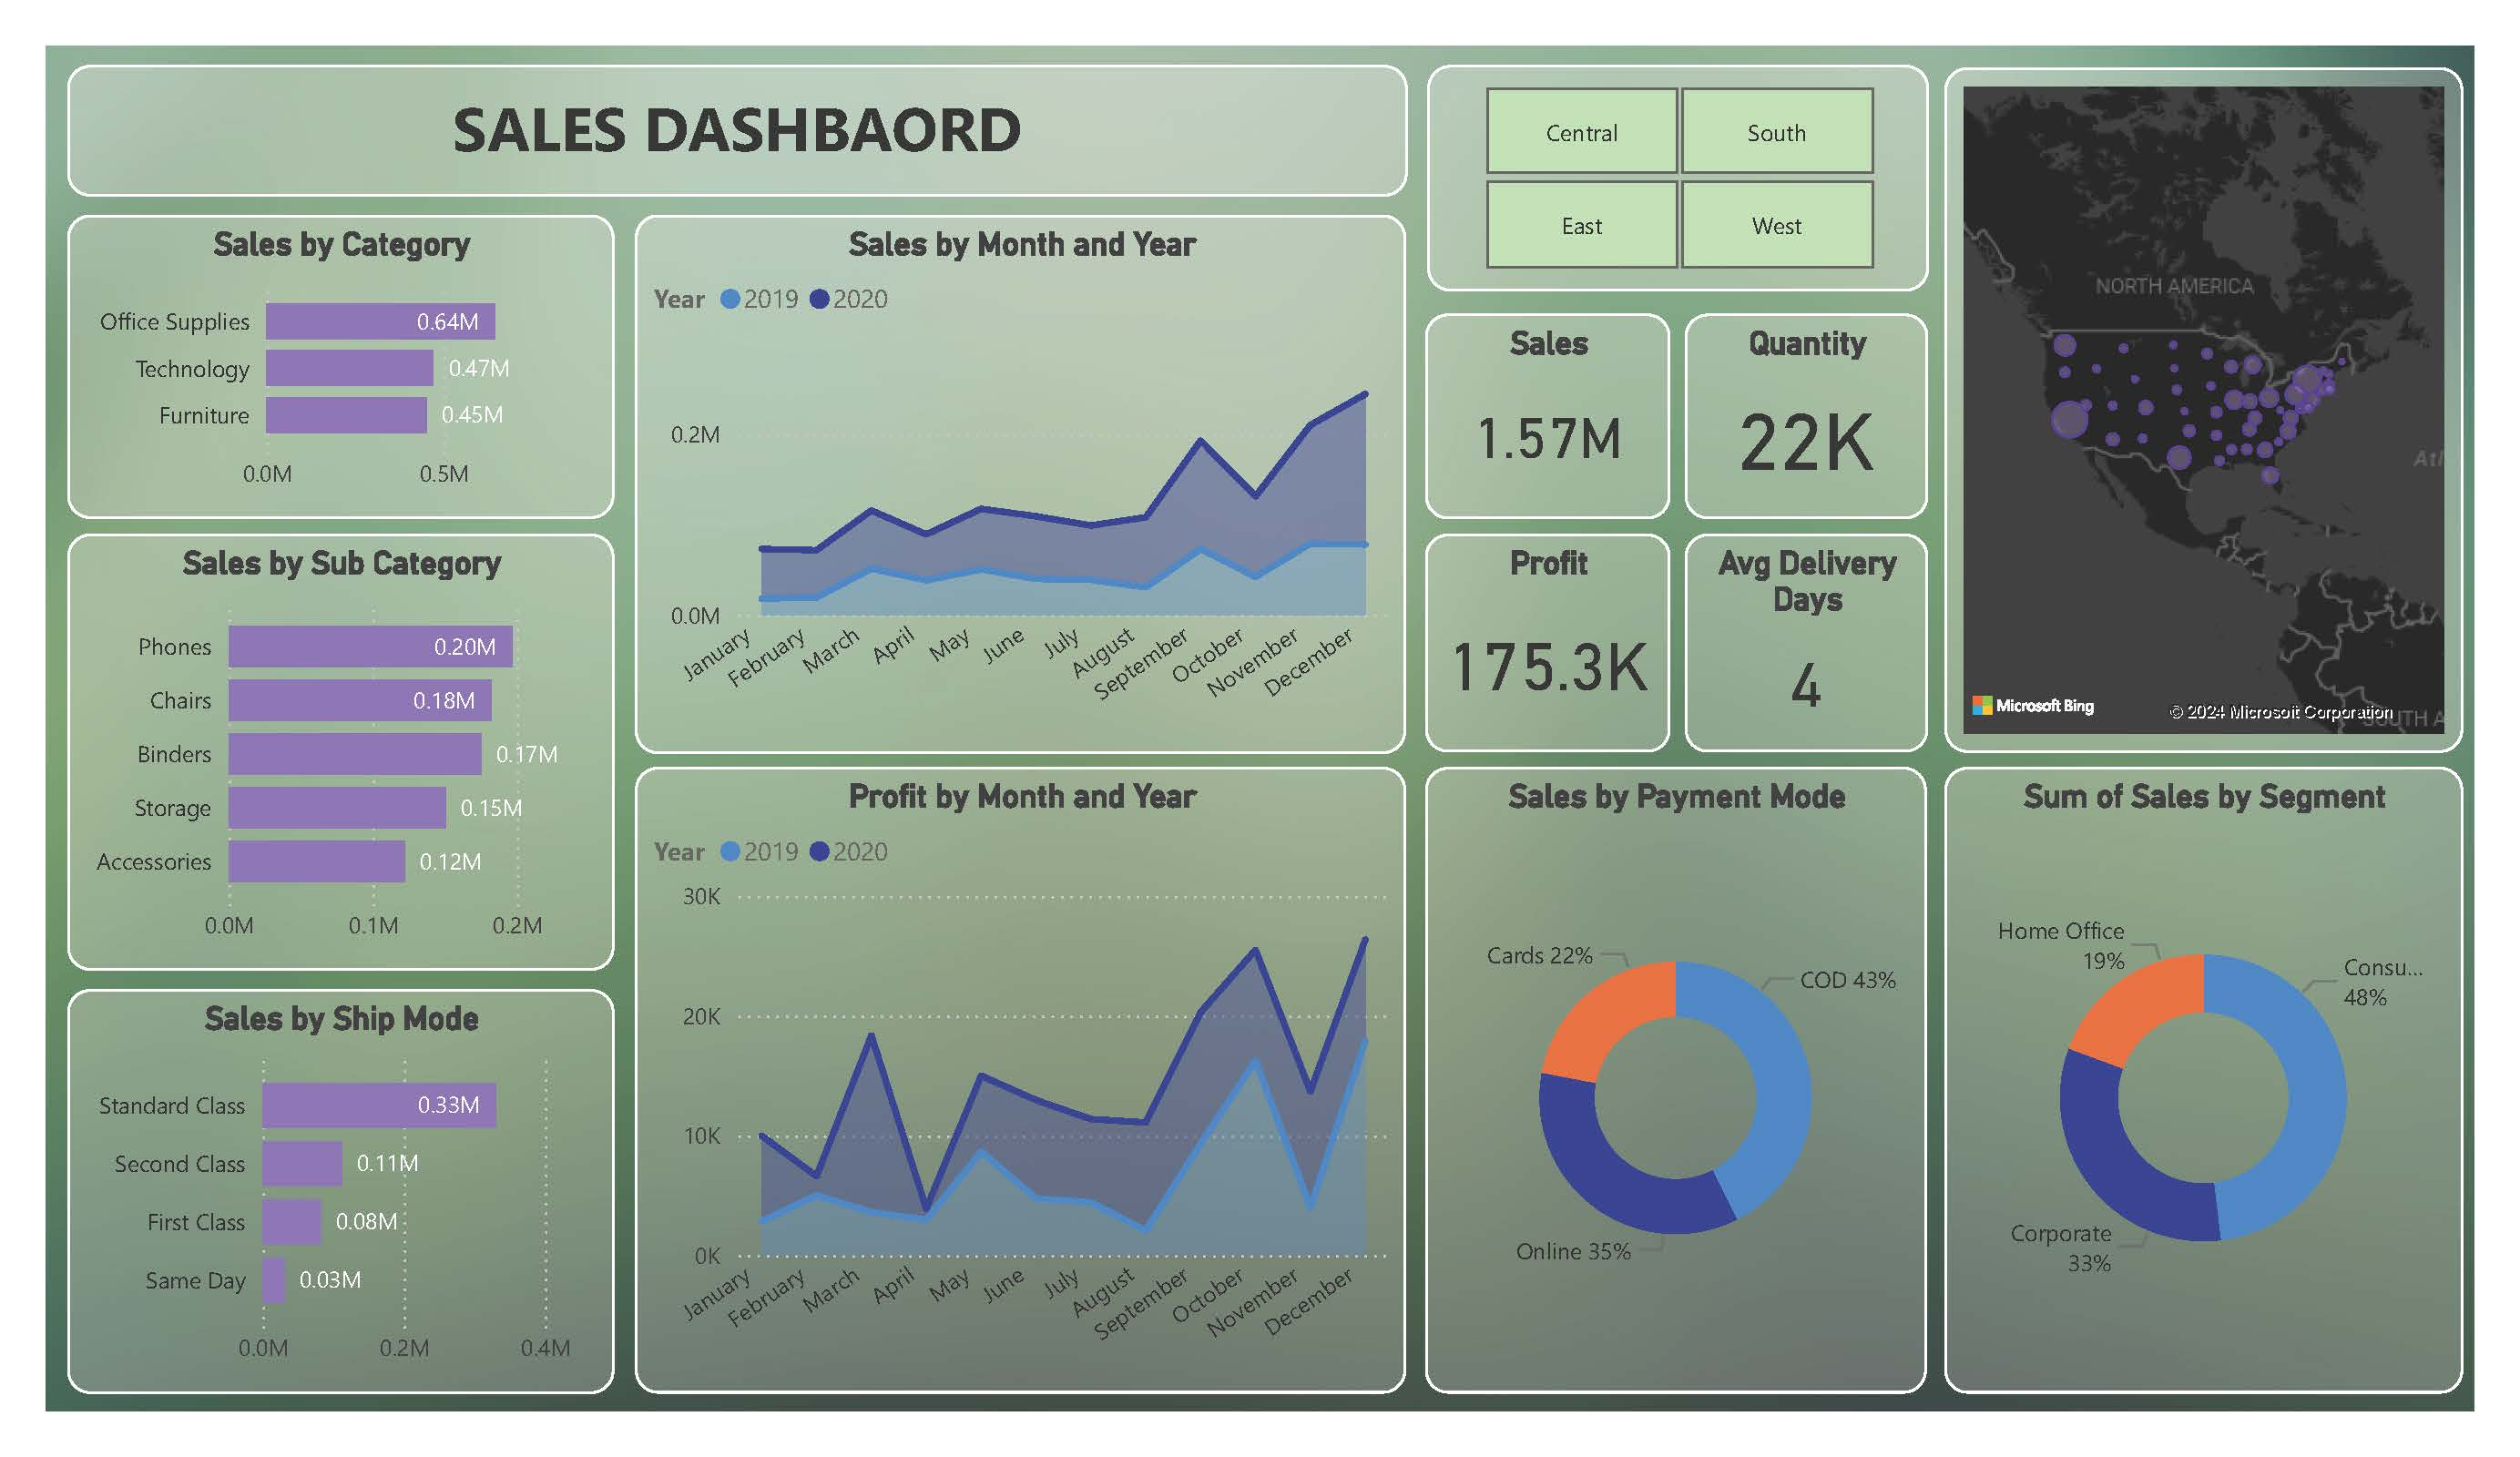

The dashboard page shown, as its layout file describes it:
{"tool":"powerbi","page":{"name":"Page 1","canvas":[1280,720],"ordinal":0},"visuals":[{"type":"clusteredBarChart","title":"Sales by Category","fields":{"Category":["SuperStore_Sales_Dataset.Category"],"Y":["Sum(SuperStore_Sales_Dataset.Sales)"]},"box":[11.2,88.8,287.5,160],"z":0},{"type":"textbox","box":[11.2,10,706.2,68.8],"z":1000},{"type":"clusteredBarChart","title":"Sales by Sub Category","fields":{"Category":["SuperStore_Sales_Dataset.Sub-Category"],"Y":["Sum(SuperStore_Sales_Dataset.Sales)"]},"box":[11.2,257.5,287.5,230],"z":2000},{"type":"clusteredBarChart","title":"Sales by Ship Mode","fields":{"Category":["SuperStore_Sales_Dataset.Ship Mode"],"Y":["Sum(SuperStore_Sales_Dataset.Sales)"]},"box":[11.2,497.5,287.5,212.5],"z":3000},{"type":"stackedAreaChart","title":"Sales by Month and Year","fields":{"Y":["Sum(SuperStore_Sales_Dataset.Sales)"],"Category":["SuperStore_Sales_Dataset.Order Date.Variation.Date Hierarchy.Month"],"Series":["SuperStore_Sales_Dataset.Order Date.Variation.Date Hierarchy.Year"]},"box":[311.2,88.8,406.2,283.8],"z":4000},{"type":"stackedAreaChart","title":"Profit by Month and Year","fields":{"Category":["SuperStore_Sales_Dataset.Order Date.Variation.Date Hierarchy.Month"],"Series":["SuperStore_Sales_Dataset.Order Date.Variation.Date Hierarchy.Year"],"Y":["Sum(SuperStore_Sales_Dataset.Profit)"]},"box":[311.2,380,406.2,330],"z":5000},{"type":"map","title":"Sales and Sum of Profit by State","fields":{"Category":["SuperStore_Sales_Dataset.State"],"Size":["Sum(SuperStore_Sales_Dataset.Sales)"]},"box":[1001.2,11.2,272.5,361.2],"z":6000},{"type":"donutChart","fields":{"Y":["Sum(SuperStore_Sales_Dataset.Sales)"],"Category":["SuperStore_Sales_Dataset.Segment"]},"box":[1001.2,380,272.5,330],"z":7000},{"type":"donutChart","title":"Sales by Payment Mode","fields":{"Y":["Sum(SuperStore_Sales_Dataset.Sales)"],"Category":["SuperStore_Sales_Dataset.Payment Mode"]},"box":[727.5,380,263.8,330],"z":8000},{"type":"slicer","fields":{"Values":["SuperStore_Sales_Dataset.Region"]},"box":[728.8,10,263.8,118.8],"z":9000},{"type":"card","title":"Sales","fields":{"Values":["Sum(SuperStore_Sales_Dataset.Sales)"]},"box":[727.5,141.2,128.8,107.5],"z":9001},{"type":"card","title":"Profit","fields":{"Values":["Sum(SuperStore_Sales_Dataset.Profit)"]},"box":[727.5,257.5,128.8,115],"z":9002},{"type":"card","title":"Quantity","fields":{"Values":["Sum(SuperStore_Sales_Dataset.Quantity)"]},"box":[863.8,141.2,127.5,107.5],"z":9003},{"type":"card","title":"Avg Delivery Days","fields":{"Values":["Avg(SuperStore_Sales_Dataset.Avg Delivery Days)"]},"box":[863.8,257.5,127.5,115],"z":9004}]}

Visuals, with their boxes in screenshot pixels (x1, y1, x2, y2):
"Sales by Category" clusteredBarChart: bbox=[22, 199, 580, 509]
textbox: bbox=[22, 46, 1393, 179]
"Sales by Sub Category" clusteredBarChart: bbox=[22, 526, 580, 973]
"Sales by Ship Mode" clusteredBarChart: bbox=[22, 992, 580, 1404]
"Sales by Month and Year" stackedAreaChart: bbox=[604, 199, 1393, 749]
"Profit by Month and Year" stackedAreaChart: bbox=[604, 764, 1393, 1404]
"Sales and Sum of Profit by State" map: bbox=[1944, 48, 2473, 749]
donutChart - Sum(SuperStore_Sales_Dataset.Sales) x SuperStore_Sales_Dataset.Segment: bbox=[1944, 764, 2473, 1404]
"Sales by Payment Mode" donutChart: bbox=[1413, 764, 1924, 1404]
slicer - SuperStore_Sales_Dataset.Region: bbox=[1415, 46, 1927, 276]
"Sales" card: bbox=[1413, 301, 1662, 509]
"Profit" card: bbox=[1413, 526, 1662, 749]
"Quantity" card: bbox=[1677, 301, 1924, 509]
"Avg Delivery Days" card: bbox=[1677, 526, 1924, 749]
